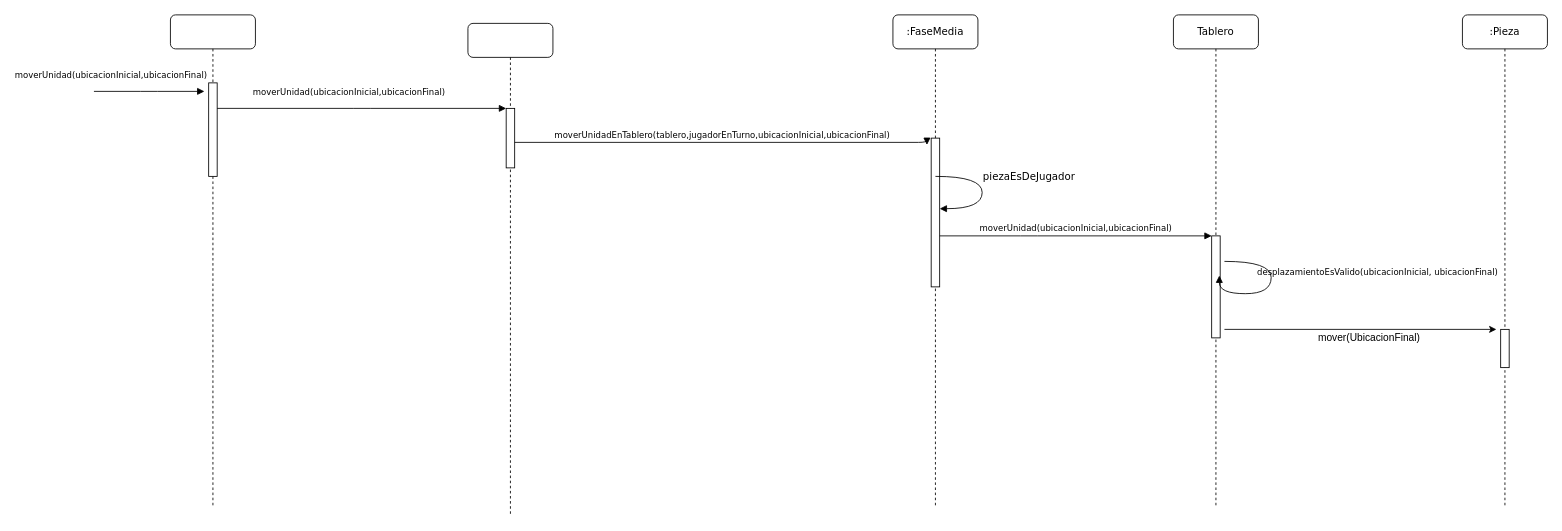
The diagram is 1562 pixels wide and 531 high, and some of its shapes have lost their labels. The shapes that lost their labels are listed below. From the top down, each one's box as (x1, y1, x2, y2) in pixels, then its label:
(170, 14, 255, 508): :Juego
(467, 23, 553, 516): :Partida
